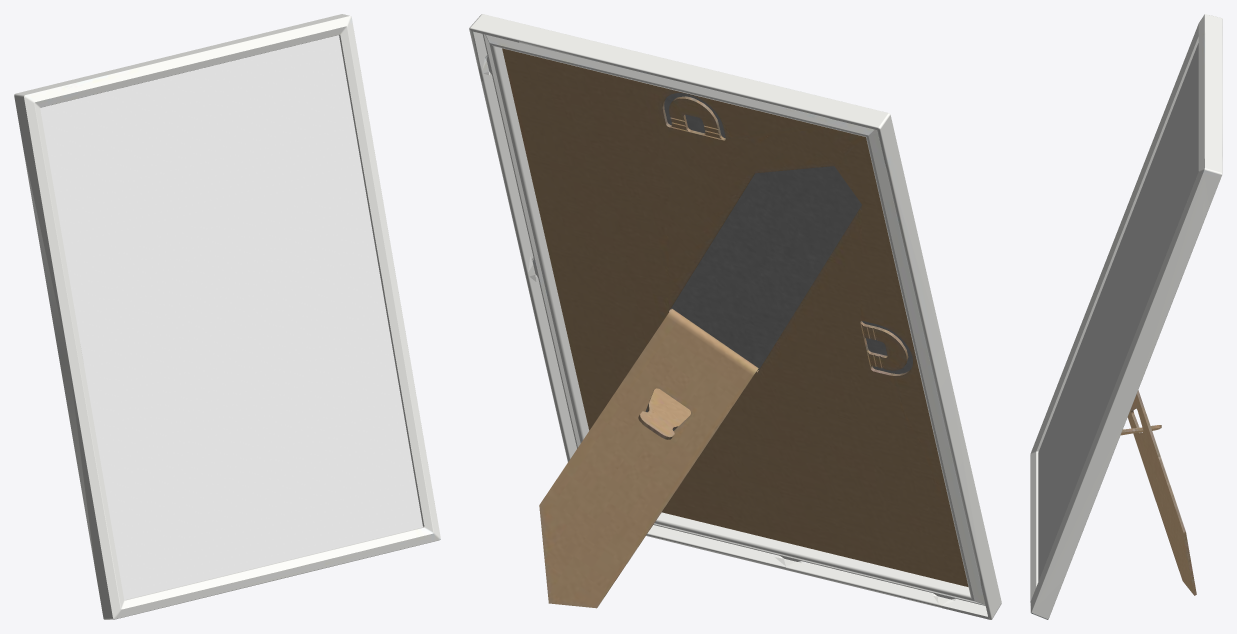
The model's file is yllevad_ramka_80429757.glb.
3 views of the same model, side by side, from view 1: azimuth 30°, elevation 25°; view 2: azimuth 150°, elevation 25°; view 3: azimuth 270°, elevation 25° (orthographic). The views are drawn at different scales.
Parts seen in each view (by area): view 1: yllevad_ramka_80429757; view 2: yllevad_ramka_80429757; view 3: yllevad_ramka_80429757.
Part boxes in pixels (<box>): yllevad_ramka_80429757: <box>14,14,440,619</box>; yllevad_ramka_80429757: <box>469,14,1001,619</box>; yllevad_ramka_80429757: <box>1030,14,1222,619</box>.
Size of the model in its own units: 0.2161 by 0.2914 by 0.1124.
Materials: 2 (2 with a texture image).
